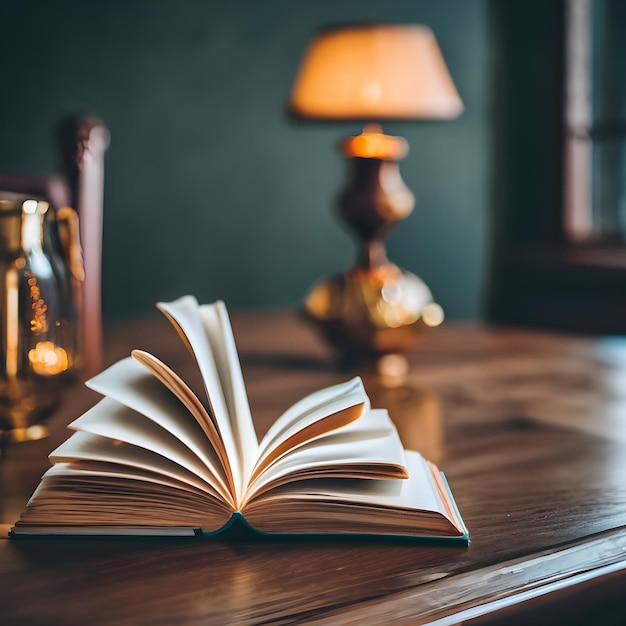book: (31, 256, 463, 570)
